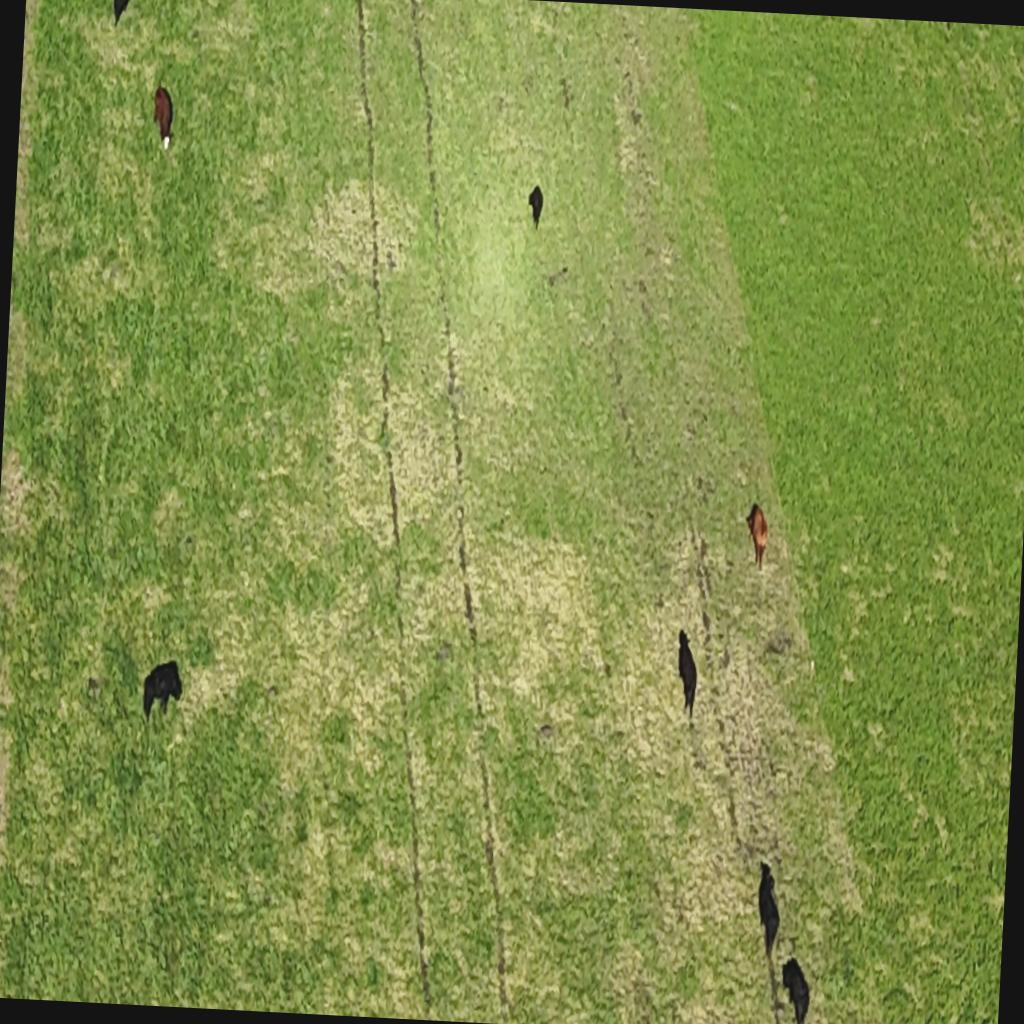cow: (754, 862, 784, 961), (778, 955, 812, 1024), (674, 630, 702, 711), (142, 662, 184, 716), (150, 80, 177, 152), (746, 502, 772, 566), (528, 184, 544, 229), (111, 0, 132, 27)
